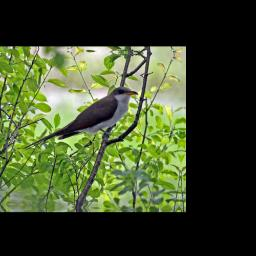Cuckoo: (23, 82, 140, 157)
